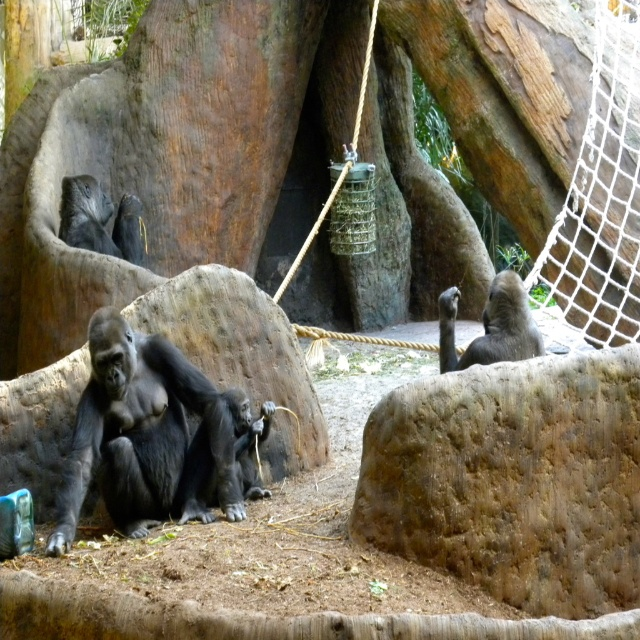Monkey: (35, 297, 277, 544)
